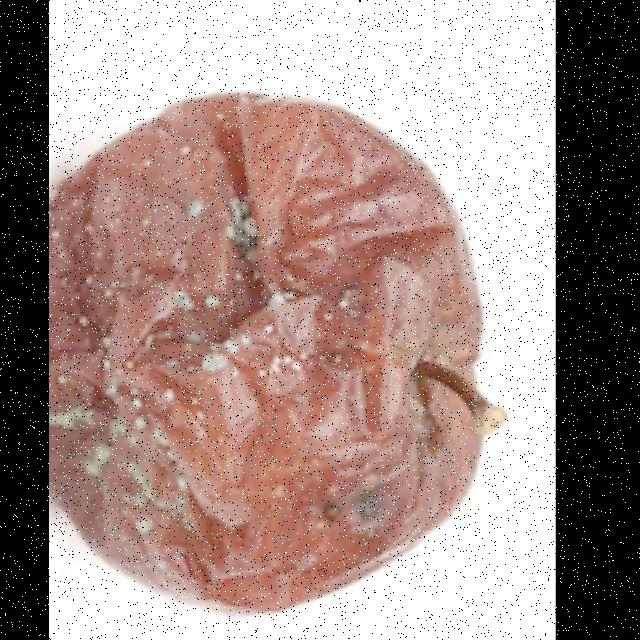Apel Tidak Segar: (47, 59, 489, 624)
